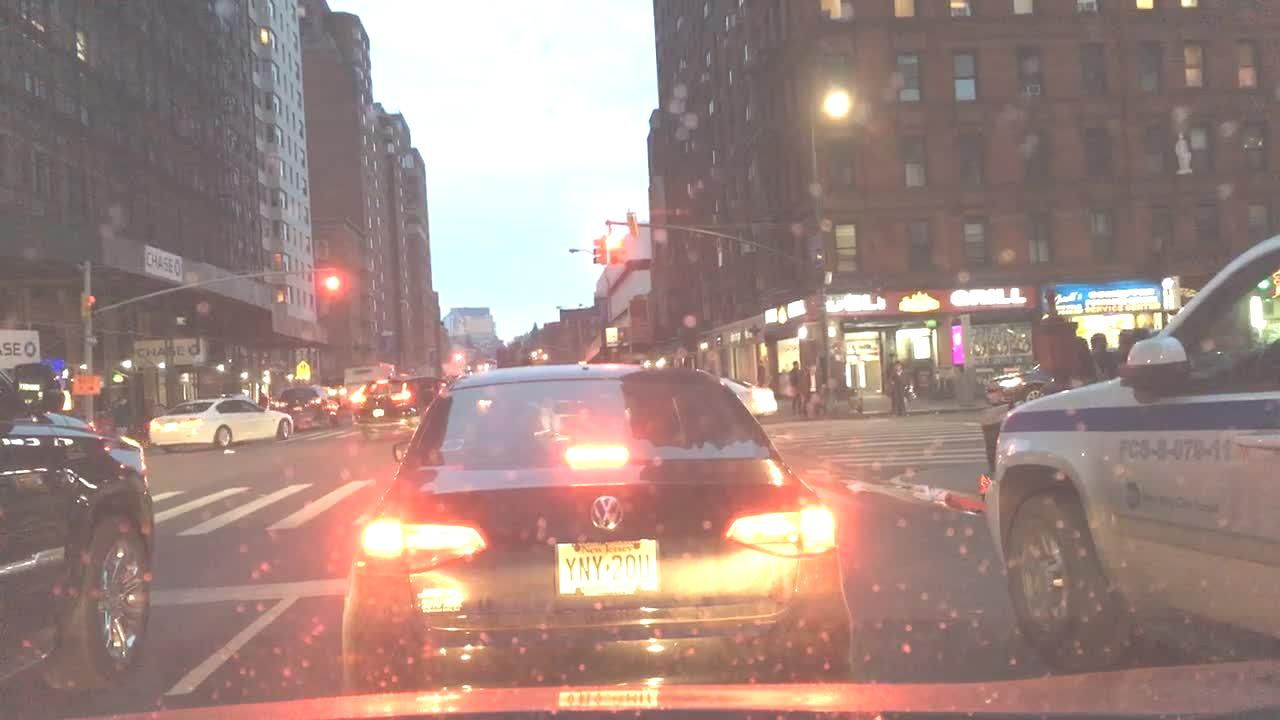Volkswagen: (585, 484, 634, 542)
